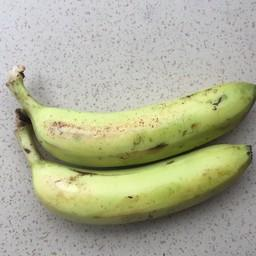Good_banana: (10, 145, 256, 234), (12, 88, 256, 164)
